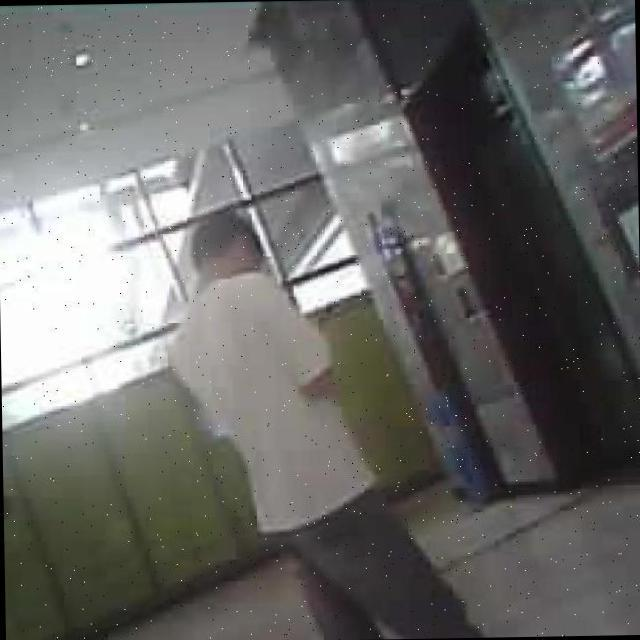person: (164, 200, 491, 640)
